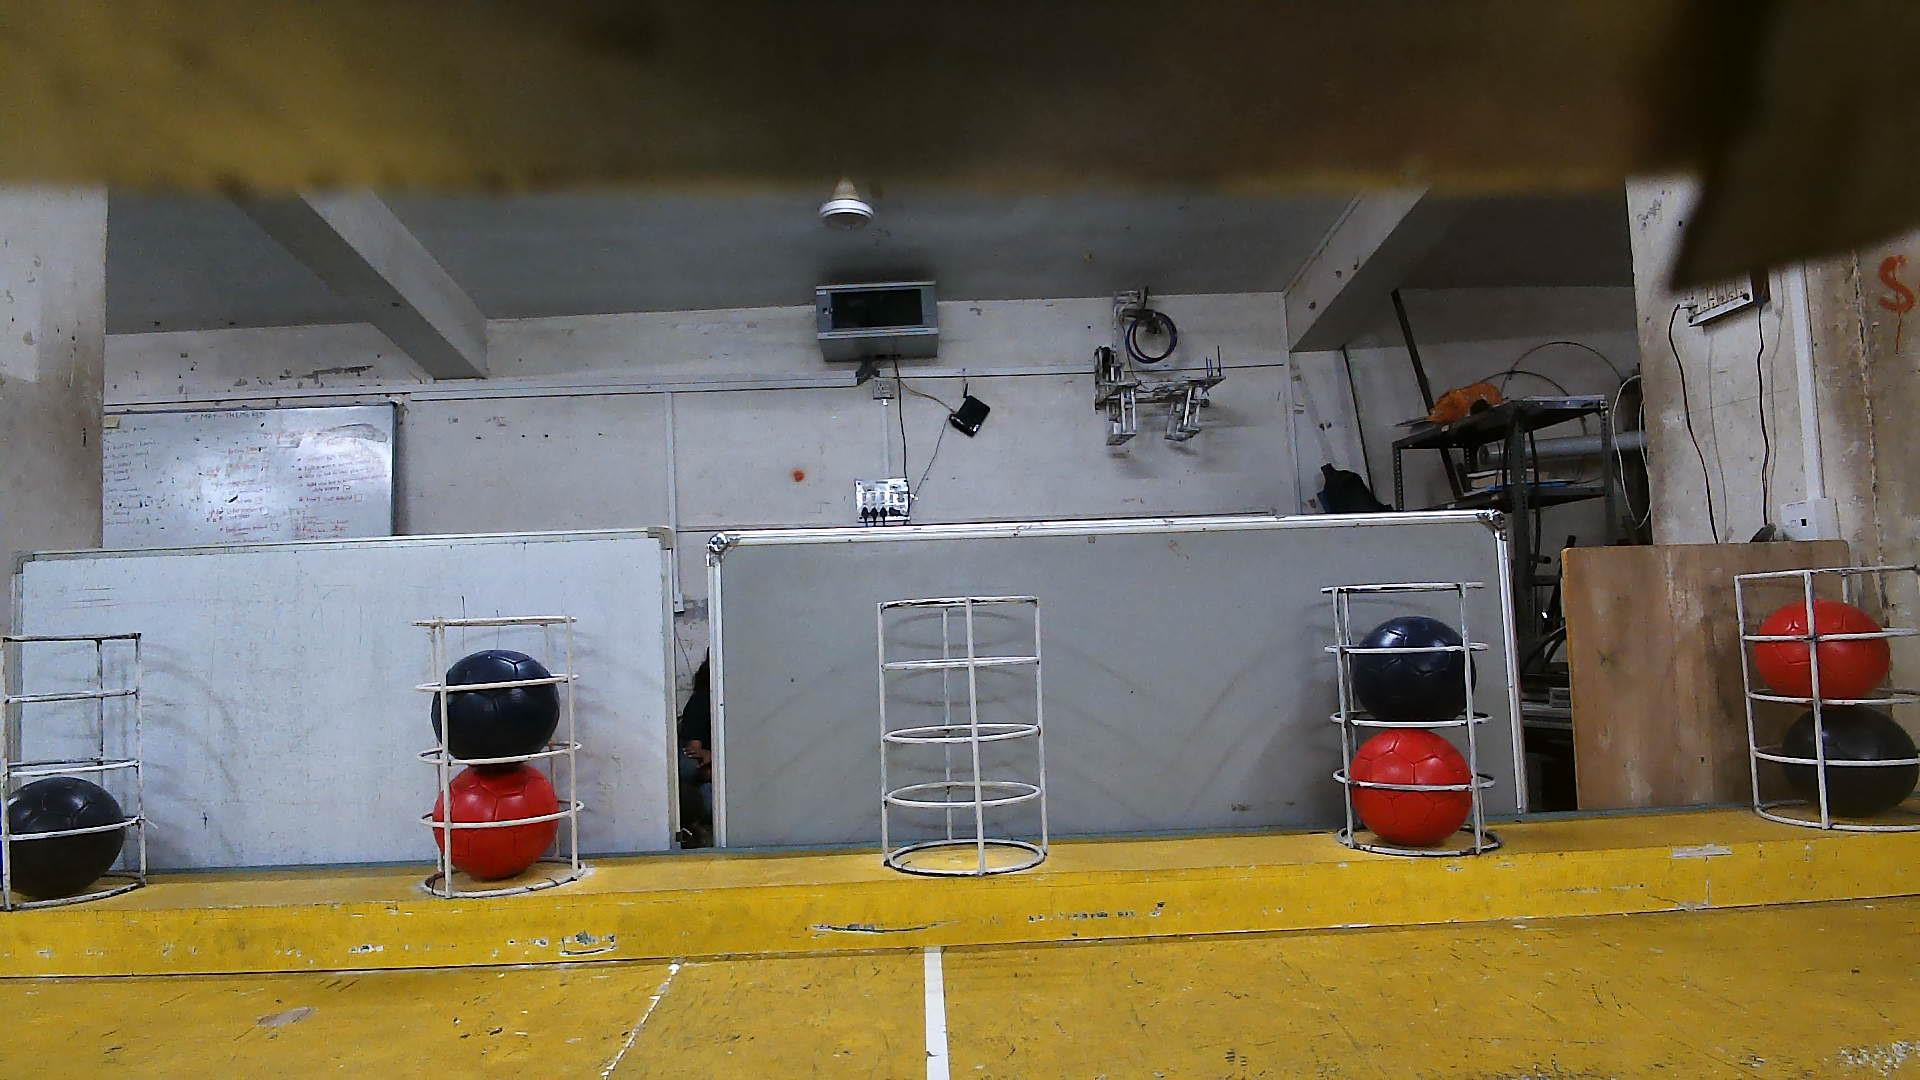dhoka: (430, 650, 560, 769), (0, 777, 125, 897), (1782, 705, 1919, 815), (1353, 616, 1476, 721)
laale: (433, 765, 559, 878), (1755, 599, 1891, 699), (1354, 731, 1468, 844)
